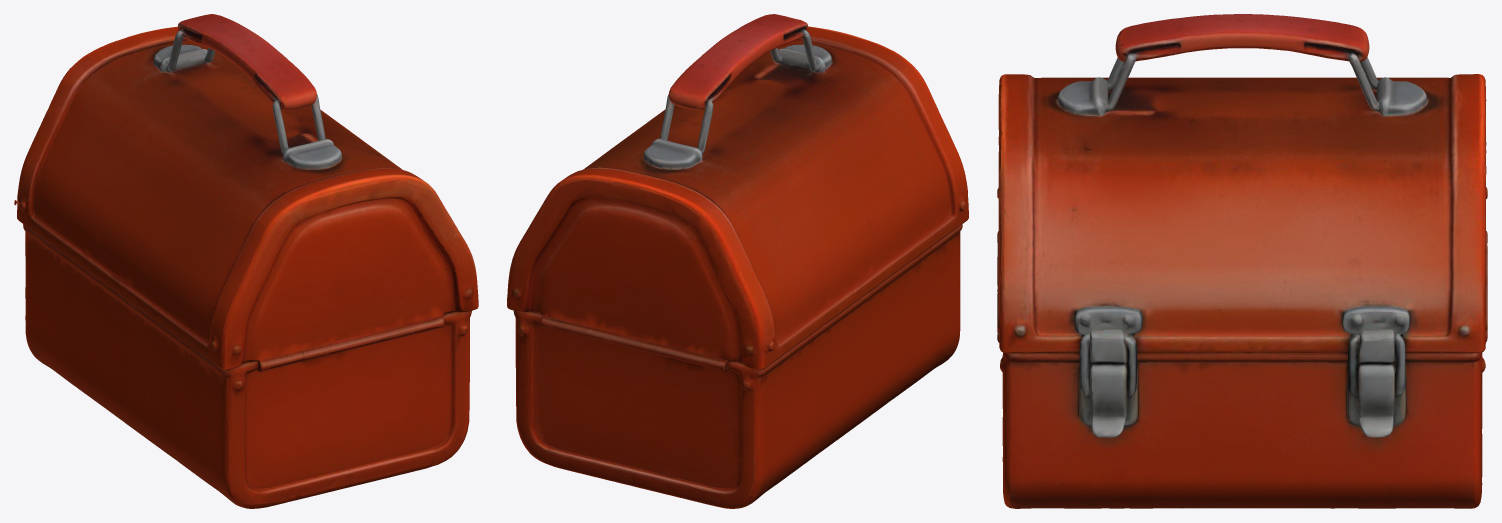
The model's file is parts.glb.
3 views of the same model, side by side, from view 1: azimuth 30°, elevation 25°; view 2: azimuth 150°, elevation 25°; view 3: azimuth 270°, elevation 25° (orthographic). The views are drawn at different scales.
Size of the model in its own units: 0.28 by 0.3643 by 0.3731.
Materials: 5 (5 with a texture image).
